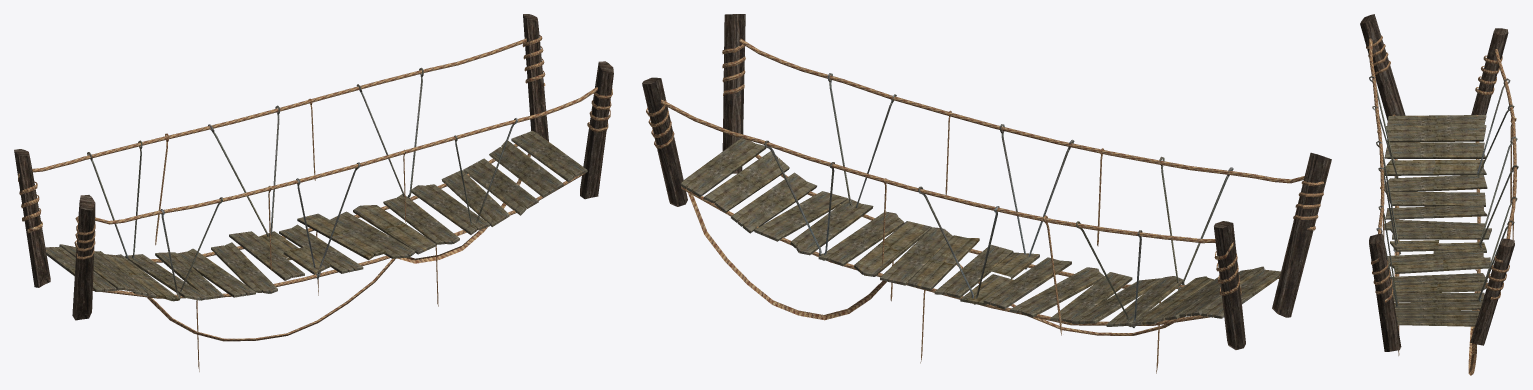
The model's file is Rope_bridge.glb.
3 views of the same model, side by side, from view 1: azimuth 30°, elevation 25°; view 2: azimuth 150°, elevation 25°; view 3: azimuth 270°, elevation 25° (orthographic). The views are drawn at different scales.
Visible parts, largest first — view 1: 3d66-Editable_Poly-22558510-001; view 2: 3d66-Editable_Poly-22558510-001; view 3: 3d66-Editable_Poly-22558510-001.
Part boxes in pixels (x1,y1,x2,y2): 3d66-Editable_Poly-22558510-001: [14, 14, 613, 371]; 3d66-Editable_Poly-22558510-001: [642, 14, 1331, 373]; 3d66-Editable_Poly-22558510-001: [1360, 14, 1518, 375].
Size of the model in its own units: 2.95 by 1.17 by 0.8629.
4 materials, 4 textured.
